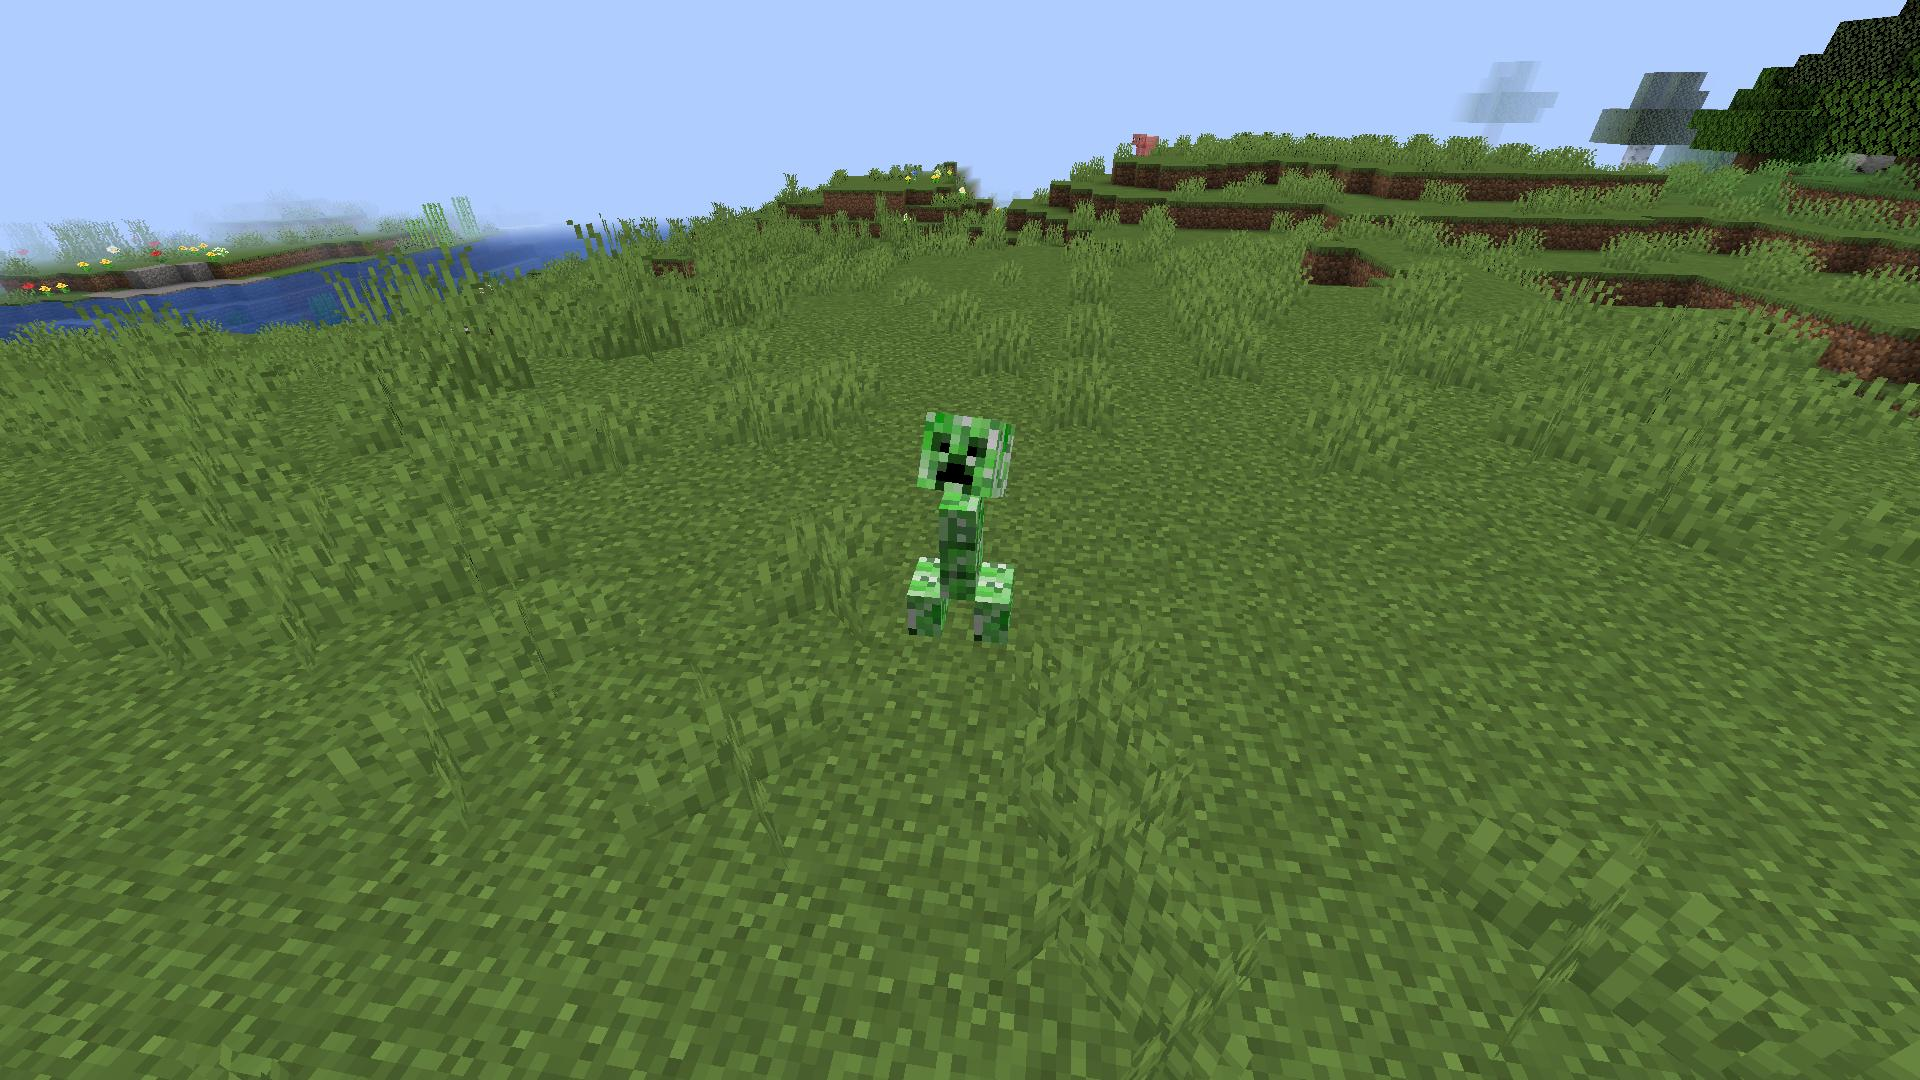creeper: (893, 394, 1029, 671)
